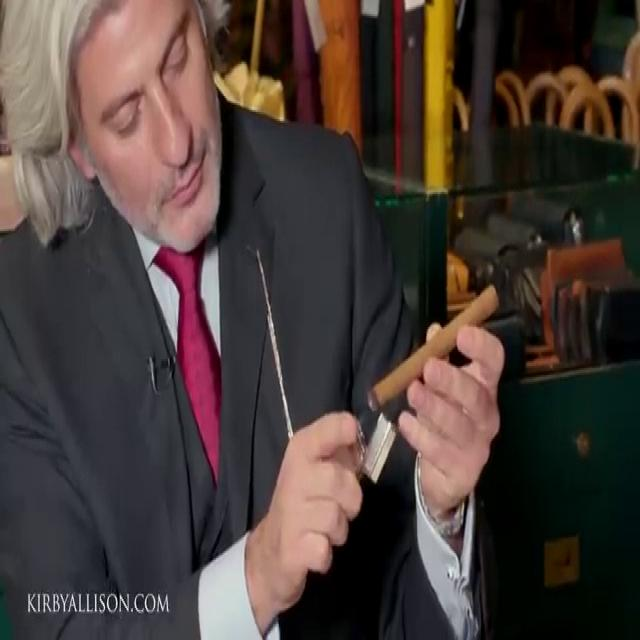Smooking: (336, 260, 520, 404)
